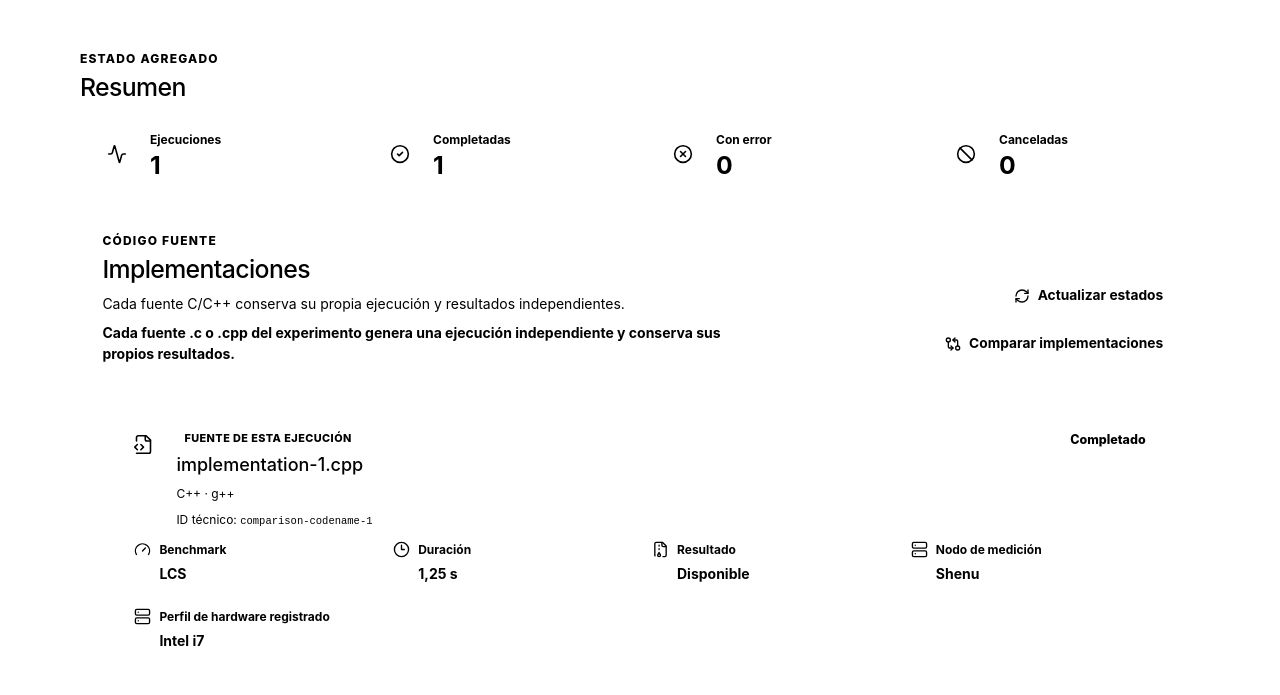
SubmissionOverviewPage › compare action is disabled after reducing the selection to one
(page scrolled)
Click the button "Comparar implementaciones" at (1054, 344), box [931,324,1178,364]
(page scrolled)
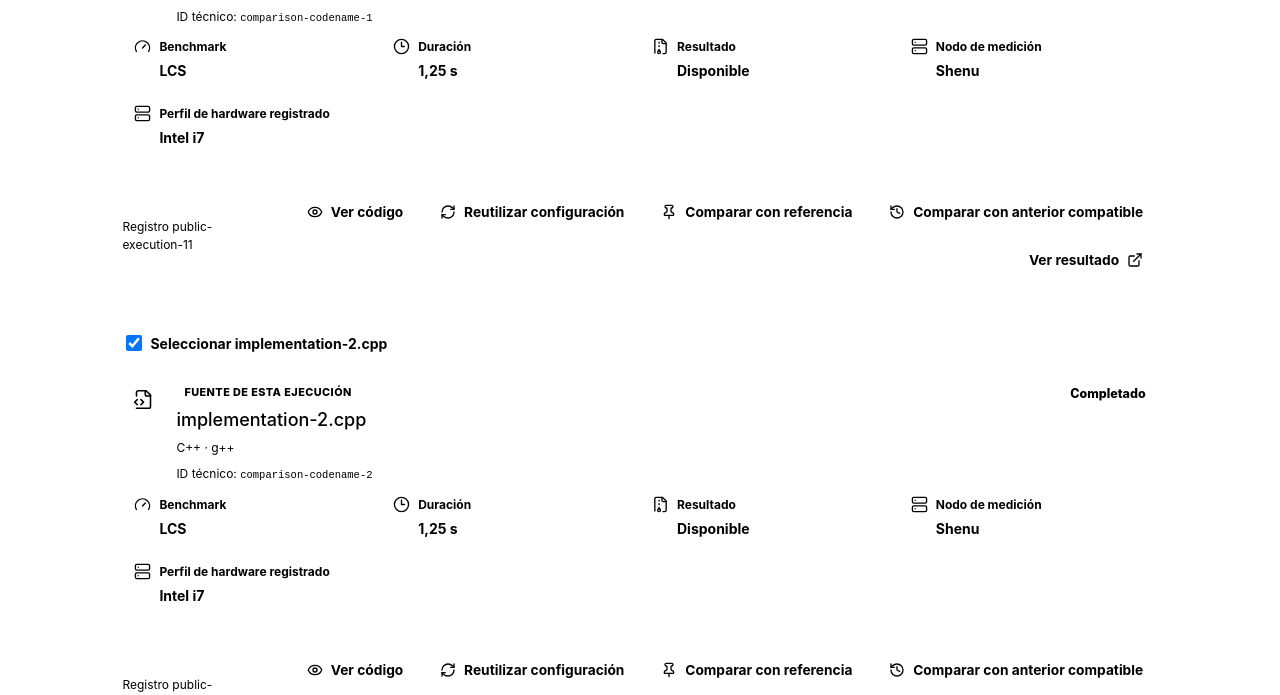
Click the checkbox labelled "Seleccionar implementation-2.cpp" at (134, 343), box [126,335,142,351]
(page scrolled)
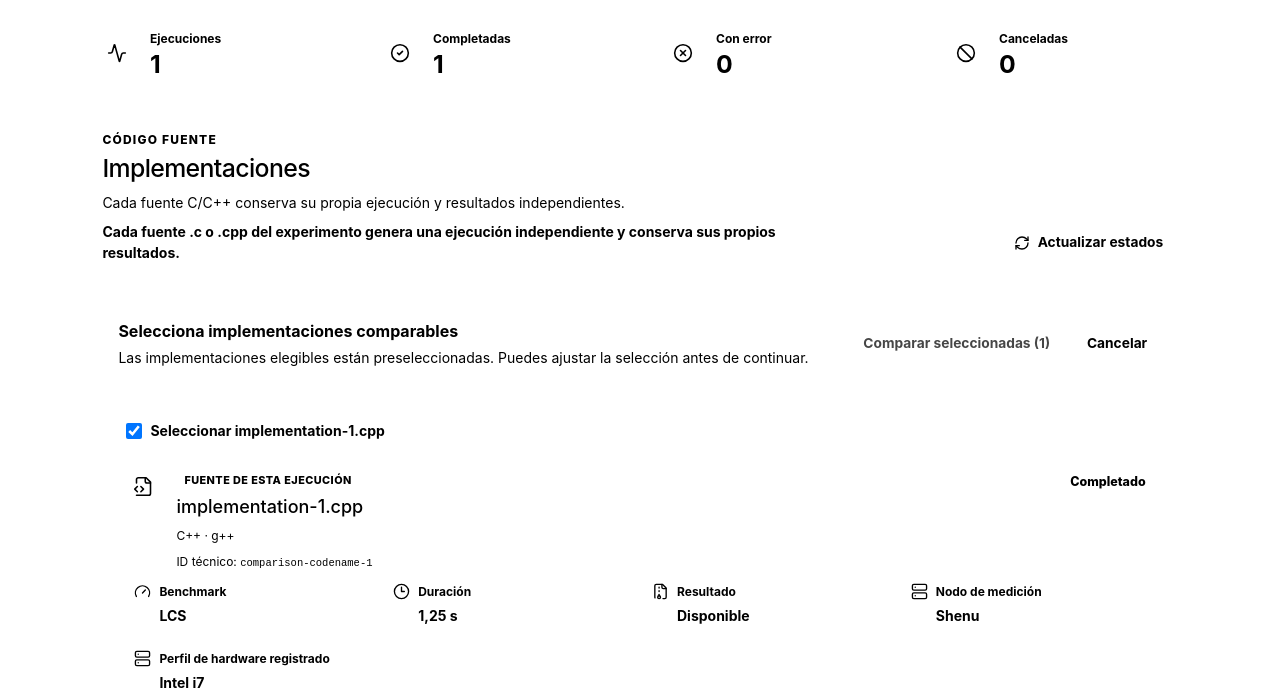
Result: the button "Comparar seleccionadas (1)" is disabled at [849,323,1065,363]
